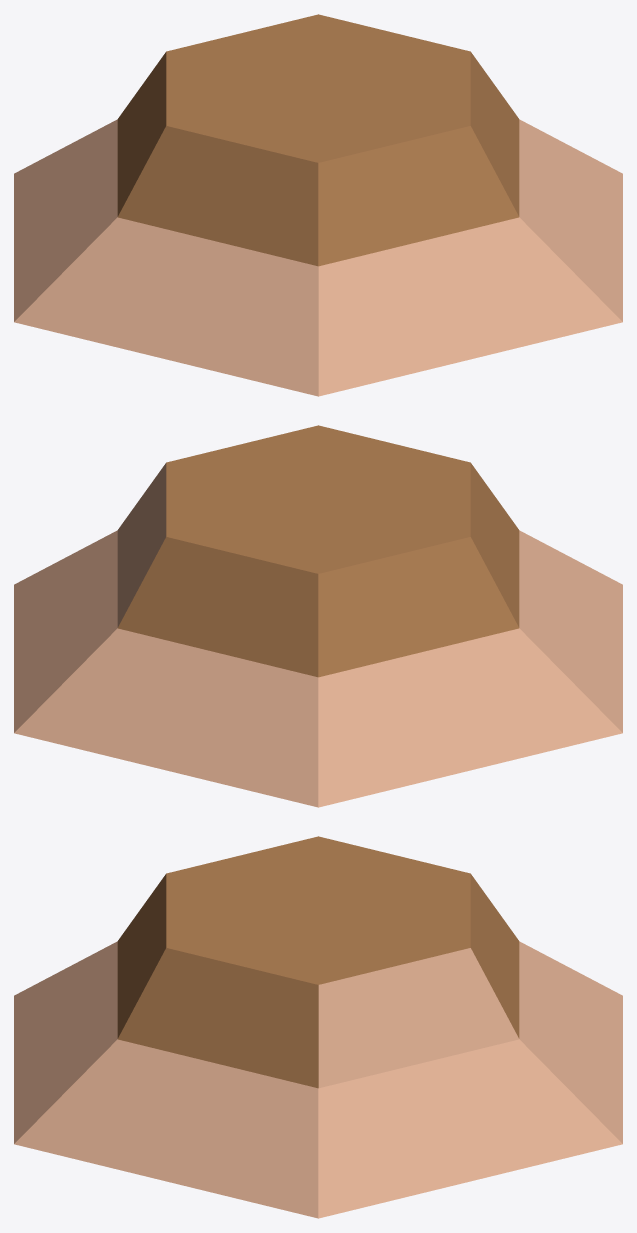
The model's file is crops_dirtSingle.glb.
3 renders of one model, top to bottom at view 1: azimuth 30°, elevation 25°; view 2: azimuth 150°, elevation 25°; view 3: azimuth 270°, elevation 25°, orthographic.
Parts seen in each view (by area): view 1: crops_dirtSingle; view 2: crops_dirtSingle; view 3: crops_dirtSingle.
Boxes of the visible parts, x1,y1,x2,y2 form: crops_dirtSingle: (14,14,622,396); crops_dirtSingle: (14,425,622,807); crops_dirtSingle: (14,836,622,1218).
Size of the model in its own units: 0.4 by 0.1 by 0.3464.
